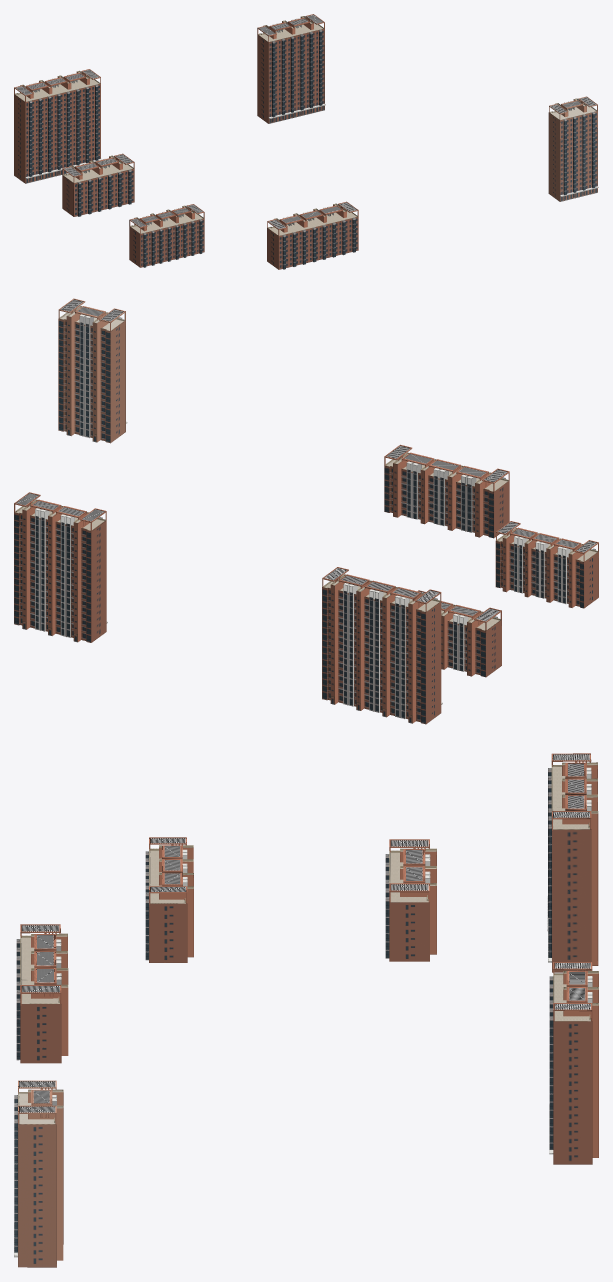
The model's file is xiaoqu1#.FBX.
3 views of the same model, one above another, from view 1: azimuth 30°, elevation 25°; view 2: azimuth 150°, elevation 25°; view 3: azimuth 270°, elevation 25° (orthographic). The views are drawn at different scales.
Visible parts, largest first — view 1: xiaoqu1#-4, xiaoqu1#-5, xiaoqu1#-6, xiaoqu1#-1, xiaoqu1#-2, xiaoqu1#-3; view 2: xiaoqu1#-4, xiaoqu1#-5, xiaoqu1#-6, xiaoqu1#-1, xiaoqu1#-2, xiaoqu1#-3; view 3: xiaoqu1#-4, xiaoqu1#-5, xiaoqu1#-6, xiaoqu1#-1, xiaoqu1#-3, xiaoqu1#-2.
Part boxes in pixels (x1,y1,x2,y2): xiaoqu1#-4: [14, 69, 101, 183]; xiaoqu1#-5: [257, 14, 325, 123]; xiaoqu1#-6: [548, 96, 598, 201]; xiaoqu1#-1: [267, 201, 358, 269]; xiaoqu1#-2: [129, 204, 204, 267]; xiaoqu1#-3: [62, 153, 134, 216]; xiaoqu1#-4: [322, 567, 442, 724]; xiaoqu1#-5: [14, 492, 107, 642]; xiaoqu1#-6: [58, 298, 127, 443]; xiaoqu1#-1: [384, 444, 509, 538]; xiaoqu1#-2: [495, 521, 598, 608]; xiaoqu1#-3: [417, 590, 501, 677]; xiaoqu1#-4: [547, 753, 598, 972]; xiaoqu1#-5: [549, 962, 598, 1164]; xiaoqu1#-6: [14, 1080, 63, 1267]; xiaoqu1#-1: [16, 924, 68, 1063]; xiaoqu1#-3: [385, 839, 436, 961]; xiaoqu1#-2: [145, 837, 193, 962].
Bounding box in the file's own units: 272 × 187 × 54.6.
